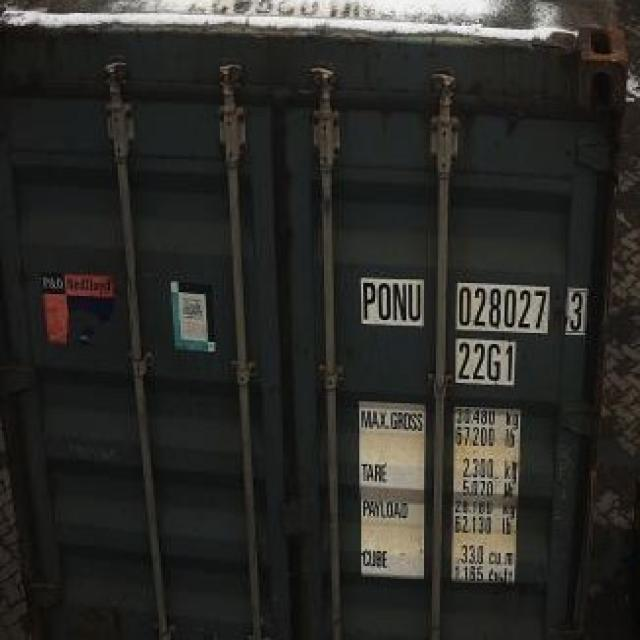ISO: (451, 336, 522, 382)
container_number: (358, 272, 590, 335)
